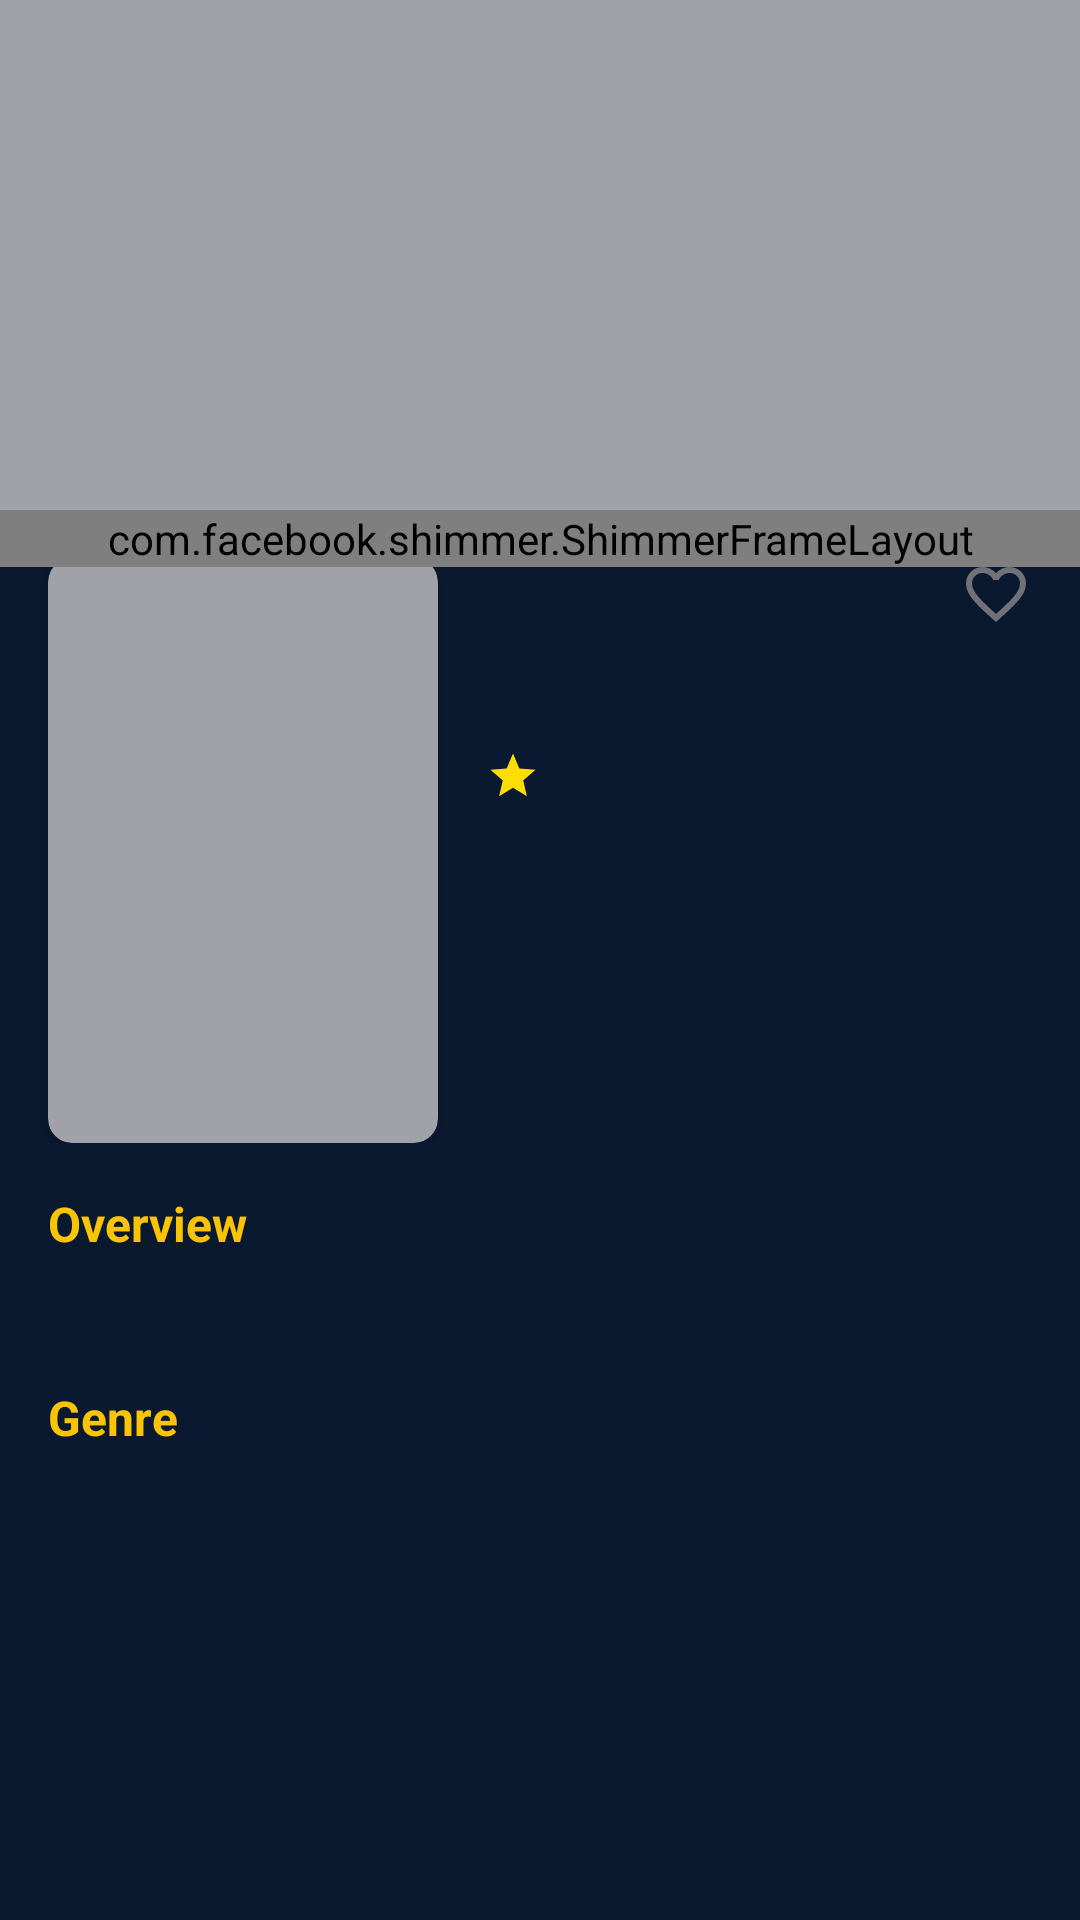

Icons on this 1080*1920 Android screen, each with the point to tap as (x=x, y=y):
Favorite: (x=996, y=590)
